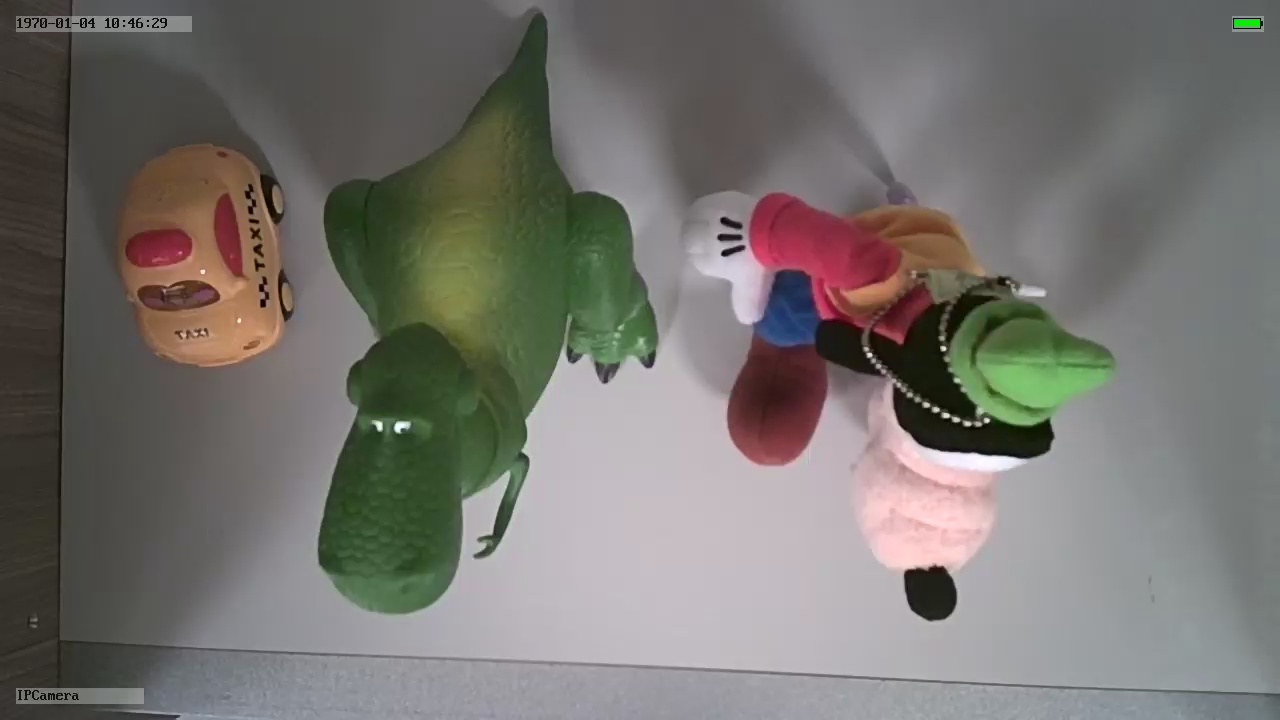car: (113, 134, 298, 370)
goofy: (683, 183, 1113, 630)
rex: (320, 119, 660, 616)
